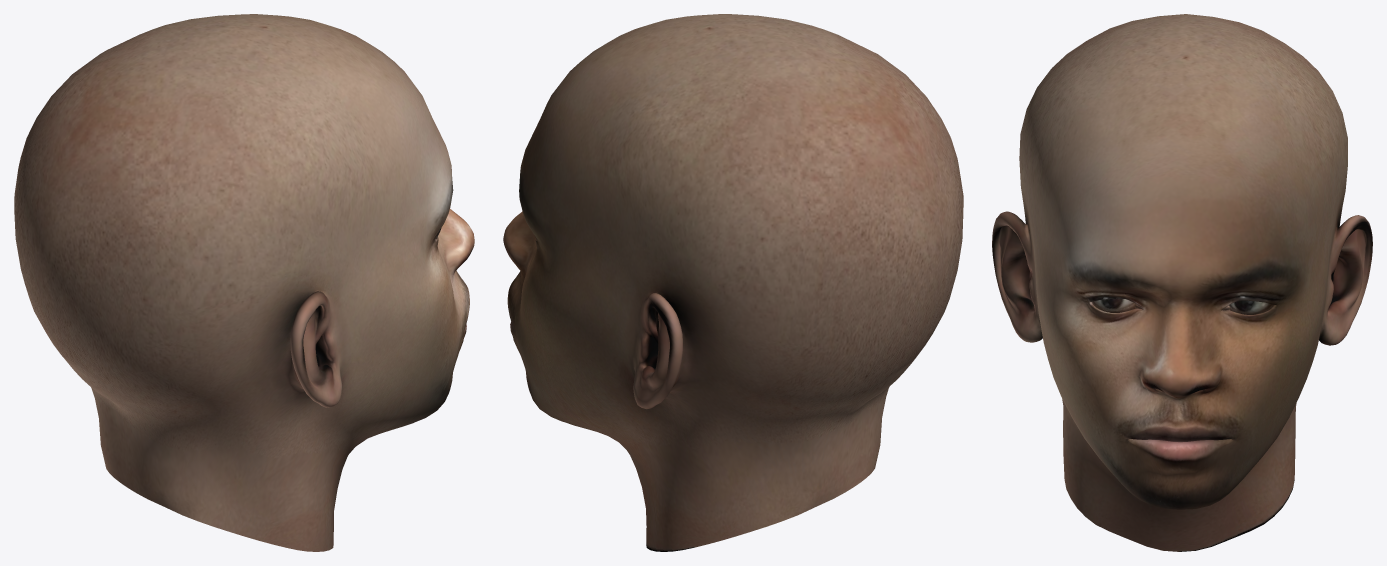
The model's file is Hodge.glb.
3 renders of one model, left to right at view 1: azimuth 30°, elevation 25°; view 2: azimuth 150°, elevation 25°; view 3: azimuth 270°, elevation 25°, orthographic. The views are drawn at different scales.
Visible parts, largest first — view 1: Mesh_0000.rip; view 2: Mesh_0000.rip; view 3: Mesh_0000.rip.
Boxes of the visible parts, <box> form: Mesh_0000.rip: <box>14,14,474,551</box>; Mesh_0000.rip: <box>503,14,963,551</box>; Mesh_0000.rip: <box>992,14,1372,551</box>.
Size of the model in its own units: 0.3676 by 0.4114 by 0.2997.
Materials: 1 (1 with a texture image).
